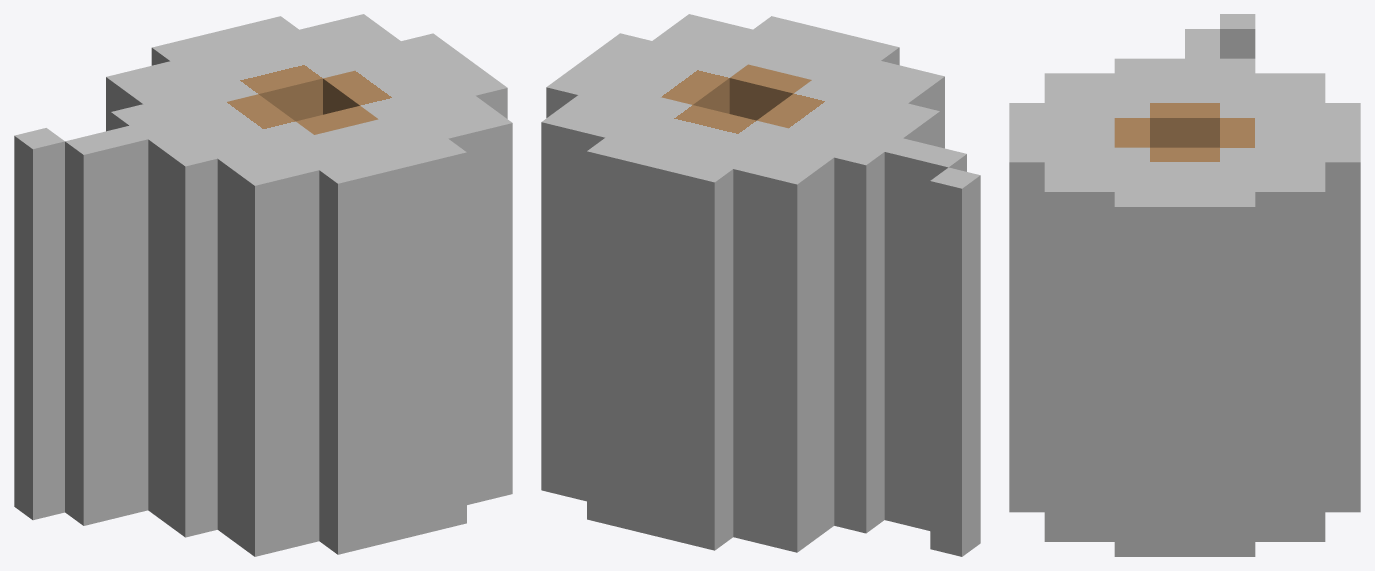
File: SrajTasma.dae
3 renders of one model, left to right at view 1: azimuth 30°, elevation 25°; view 2: azimuth 150°, elevation 25°; view 3: azimuth 270°, elevation 25°, orthographic. The views are drawn at different scales.
Visible parts, largest first — view 1: Srajtasma; view 2: Srajtasma; view 3: Srajtasma.
Part boxes in pixels (x1,y1,x2,y2): Srajtasma: (14, 14, 512, 556); Srajtasma: (541, 14, 980, 556); Srajtasma: (1009, 14, 1360, 556).
Size of the model in its own units: 13 by 11 by 10.
Materials: 1 (1 with a texture image).
